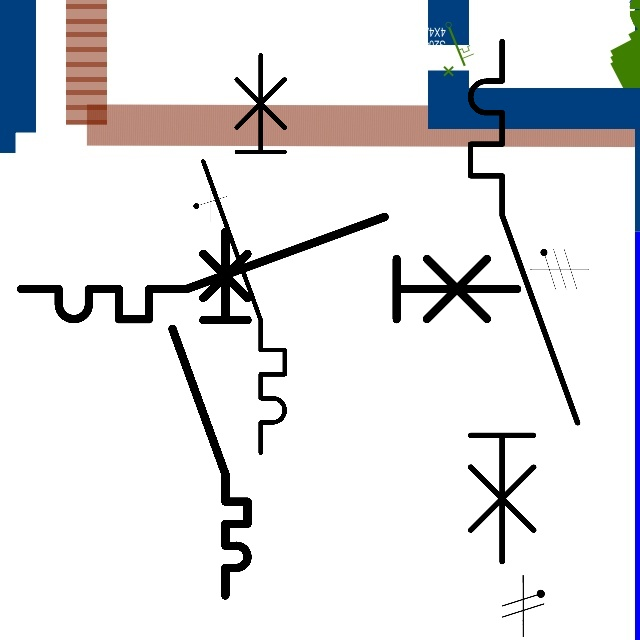interruptor_termomagnetico: (457, 28, 591, 575), (8, 204, 530, 332), (193, 45, 295, 463), (163, 222, 257, 605)
